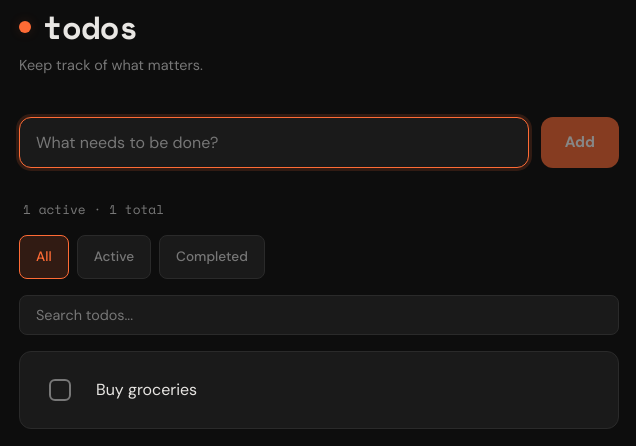
Scenario: App › shows empty message when search matches nothing
The width and height of the screenshot is (636, 446).
Expected: the text "Buy groceries" is shown, 96,379 -> 197,400
Type "zzzzz" into the search field labelled "Search todos" at (319, 315), box 19,295 -> 619,335
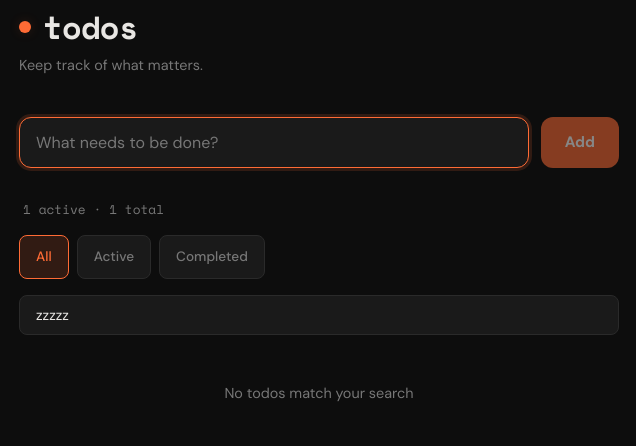
Expected: the text "No todos match your search" is shown, 224,384 -> 414,402
